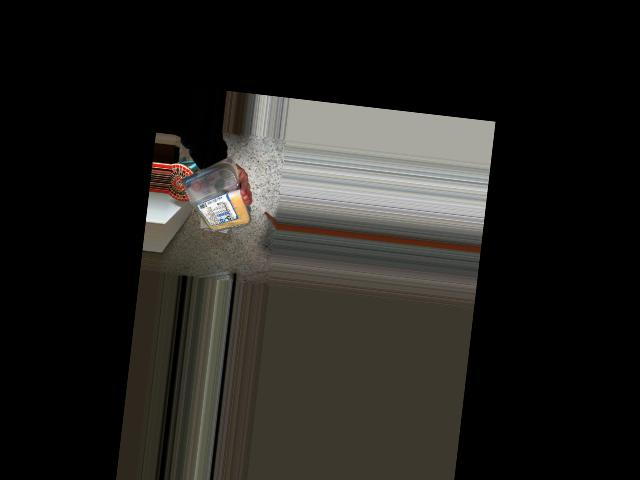cheese: (175, 162, 247, 239)
